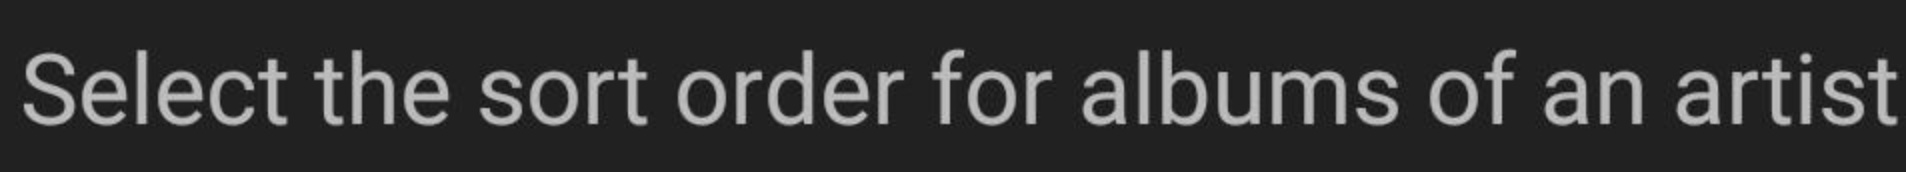TextView: (1, 1, 1905, 171)
